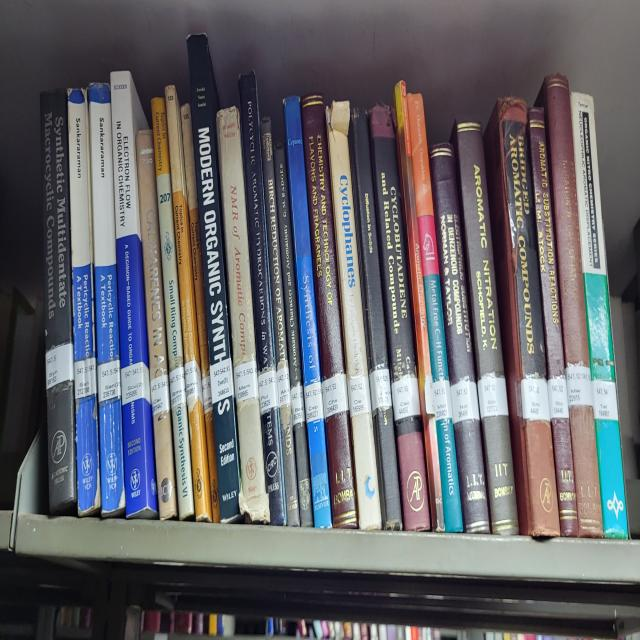Book: (484, 97, 560, 538), (536, 73, 602, 538), (452, 122, 519, 536), (570, 95, 628, 538), (188, 35, 240, 522), (370, 108, 430, 530), (301, 95, 358, 528), (392, 81, 445, 533), (429, 143, 490, 533), (408, 95, 462, 533), (326, 103, 381, 530), (216, 106, 270, 522), (349, 108, 402, 530), (110, 70, 158, 519), (528, 108, 578, 536), (239, 73, 285, 525), (165, 87, 212, 522), (285, 97, 331, 528), (151, 97, 194, 519), (181, 103, 220, 522), (136, 130, 178, 519), (40, 89, 78, 514), (261, 119, 300, 528), (89, 84, 125, 517), (274, 143, 314, 528), (68, 89, 100, 517)
Label: (478, 373, 509, 419), (450, 379, 480, 425), (391, 376, 420, 422), (521, 376, 550, 422), (121, 363, 151, 406), (46, 344, 74, 390), (322, 373, 349, 419), (210, 357, 234, 403), (234, 360, 259, 403), (98, 360, 121, 403), (74, 357, 96, 400), (370, 368, 392, 411), (348, 376, 371, 417), (184, 360, 202, 411), (258, 371, 279, 414), (150, 373, 170, 417), (304, 381, 324, 422), (432, 379, 452, 419), (169, 365, 186, 409), (291, 384, 305, 425), (278, 365, 291, 406), (201, 376, 212, 414), (425, 373, 435, 414)
